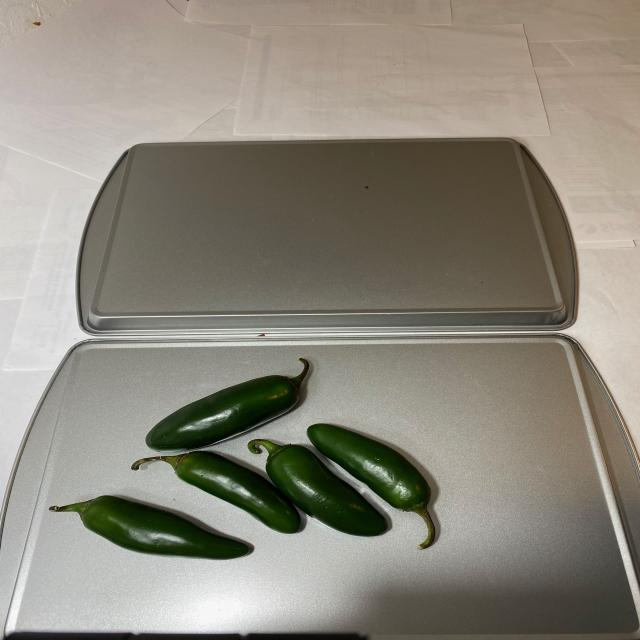chilli: (41, 360, 452, 564)
